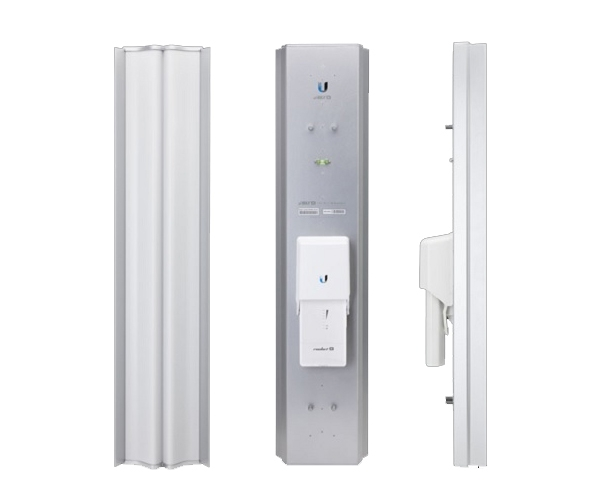sa: (100, 42, 223, 471), (259, 47, 378, 466), (423, 27, 511, 475)
